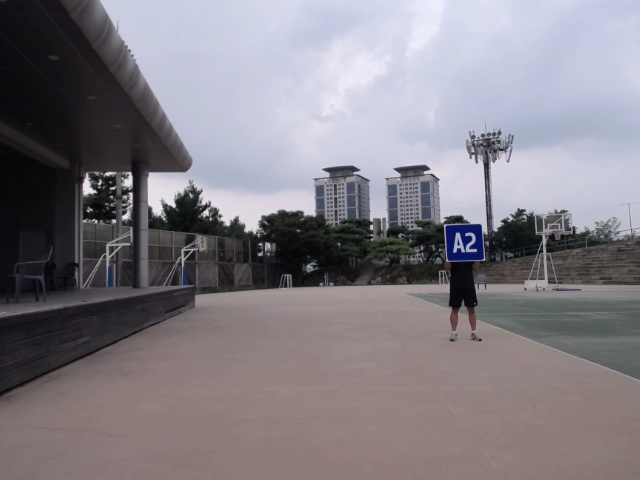delivery_a2: (445, 223, 485, 261)
